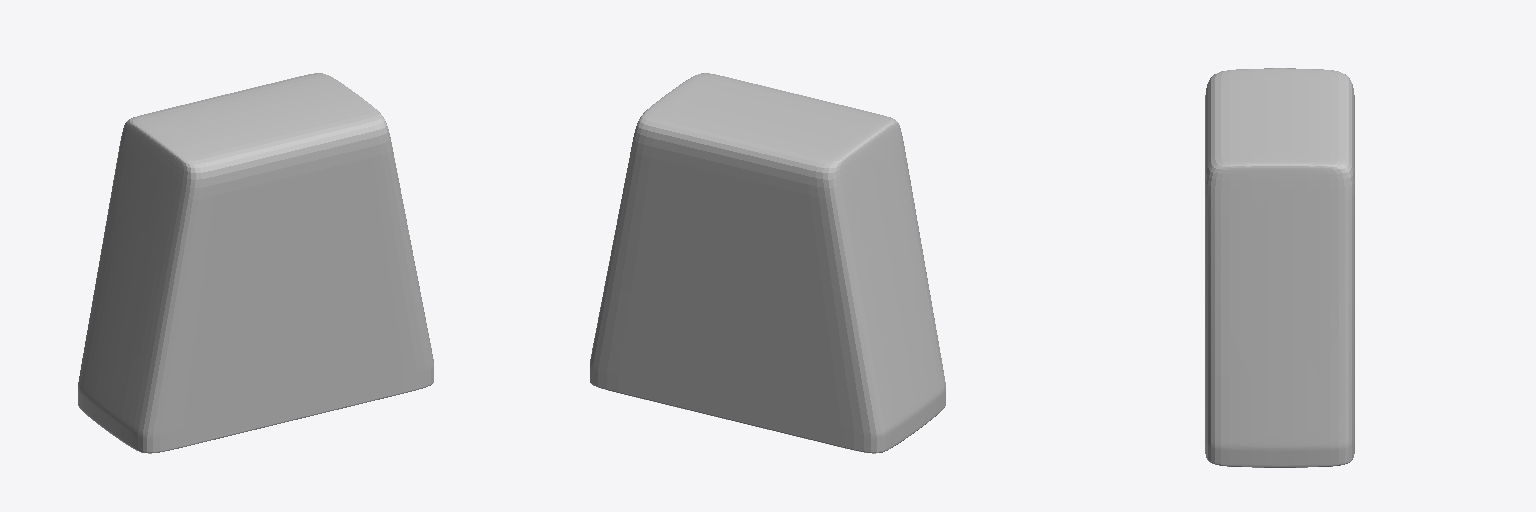
File: Torax.obj
The picture shows the model from 3 angles: view 1: azimuth 30°, elevation 25°; view 2: azimuth 150°, elevation 25°; view 3: azimuth 270°, elevation 25°; orthographic projection.
Parts seen in each view (by area): view 1: Torax; view 2: Torax; view 3: Torax.
Part boxes in pixels (x1,y1,x2,y2): Torax: (78, 73, 433, 453); Torax: (590, 73, 945, 453); Torax: (1205, 68, 1354, 467).
Size of the model in its own units: 23.97 by 21.56 by 10.47.